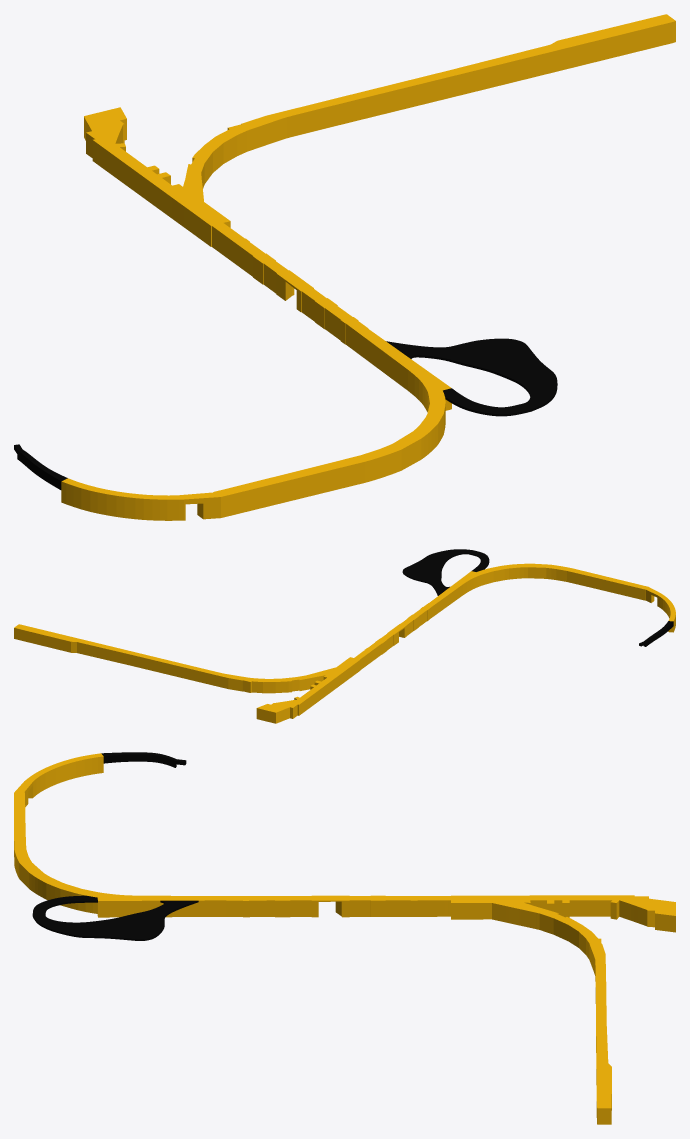
The model's file is highline.glb.
3 renders of one model, top to bottom at view 1: azimuth 30°, elevation 25°; view 2: azimuth 150°, elevation 25°; view 3: azimuth 270°, elevation 25°, orthographic. The views are drawn at different scales.
Parts seen in each view (by area): view 1: -7141751, object 2; view 2: -7141751, object 2; view 3: -7141751, object 2, object 4.
Boxes of the visible parts, x1,y1,x2,y2 form: -7141751: [61, 14, 675, 520]; object 2: [386, 338, 557, 416]; -7141751: [14, 563, 675, 723]; object 2: [402, 549, 489, 595]; -7141751: [14, 753, 675, 1124]; object 2: [32, 895, 198, 940]; object 4: [101, 752, 176, 767].
Bounding box in the file's own units: 687 × 14.85 × 540.
